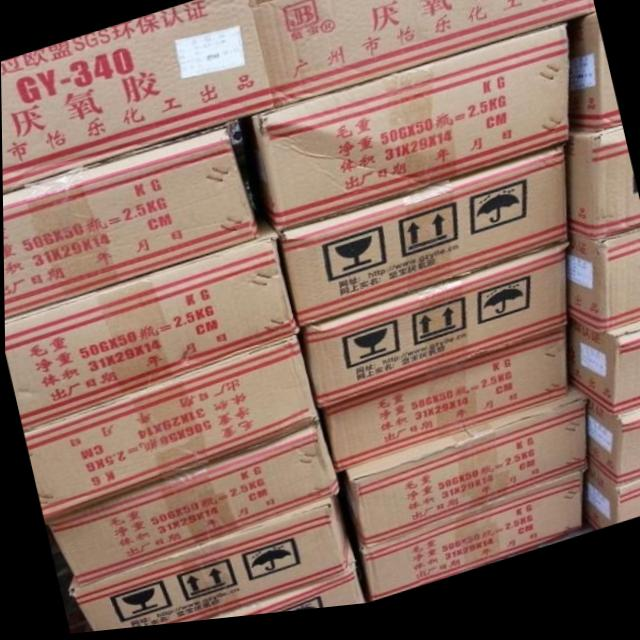box: (250, 35, 569, 237), (4, 219, 296, 433), (22, 338, 317, 523), (1, 0, 273, 193), (277, 158, 566, 336), (2, 128, 258, 320), (43, 431, 338, 587), (303, 257, 564, 416), (255, 0, 594, 114), (338, 399, 586, 554), (69, 501, 347, 633), (321, 338, 565, 476), (361, 483, 581, 607), (195, 548, 365, 625), (568, 140, 640, 252), (563, 242, 640, 346), (565, 332, 640, 431), (568, 26, 620, 145), (583, 418, 640, 501), (581, 484, 640, 542)
